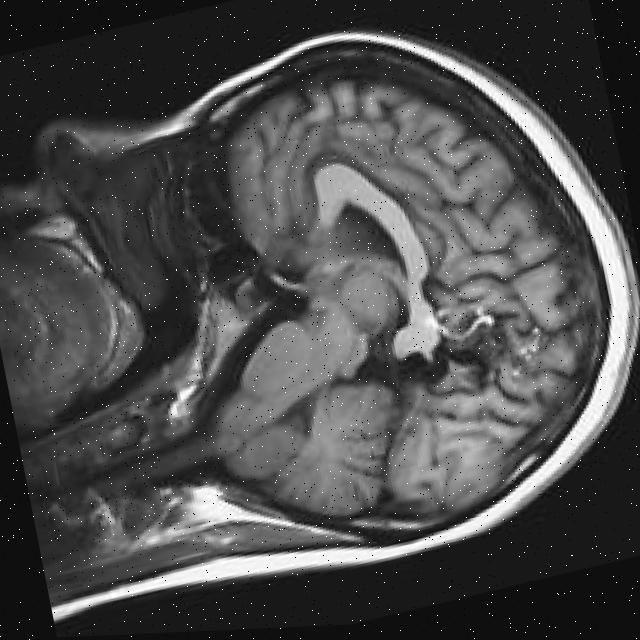NoTumor: (141, 0, 640, 600)
